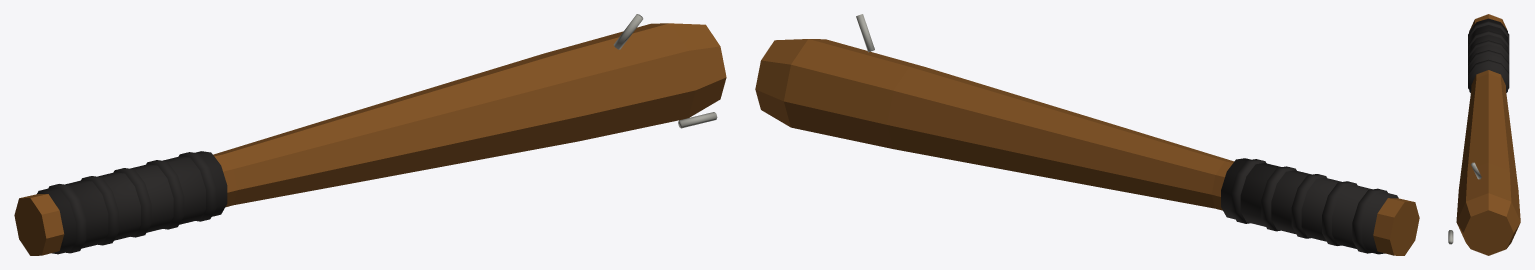
The model's file is item_club.glb.
The picture shows the model from 3 angles, left to right: view 1: azimuth 30°, elevation 25°; view 2: azimuth 150°, elevation 25°; view 3: azimuth 270°, elevation 25°; orthographic projection. The views are drawn at different scales.
Visible parts, largest first — view 1: club, grip, grip_turn_3, grip_turn_2, grip_turn_0, grip_turn_1, grip_turn_4; view 2: club, grip, grip_turn_3, grip_turn_0, grip_turn_2, grip_turn_1, grip_turn_4; view 3: club, grip, grip_turn_4, grip_turn_1, grip_turn_0, grip_turn_2, grip_turn_3, nail_0, nail_1.
Boxes of the visible parts, bbox=[...] form: club: bbox=[14, 23, 726, 255]; grip: bbox=[37, 151, 227, 254]; grip_turn_3: bbox=[146, 160, 184, 229]; grip_turn_2: bbox=[113, 168, 151, 237]; grip_turn_0: bbox=[48, 184, 86, 253]; grip_turn_1: bbox=[81, 176, 118, 245]; grip_turn_4: bbox=[178, 152, 216, 221]; club: bbox=[755, 39, 1419, 255]; grip: bbox=[1221, 158, 1398, 254]; grip_turn_3: bbox=[1261, 166, 1296, 231]; grip_turn_0: bbox=[1352, 188, 1387, 253]; grip_turn_2: bbox=[1291, 174, 1326, 238]; grip_turn_1: bbox=[1322, 181, 1357, 245]; grip_turn_4: bbox=[1231, 159, 1266, 223]; club: bbox=[1456, 14, 1520, 255]; grip: bbox=[1469, 18, 1507, 92]; grip_turn_4: bbox=[1468, 59, 1509, 89]; grip_turn_1: bbox=[1468, 30, 1509, 53]; grip_turn_0: bbox=[1468, 21, 1509, 43]; grip_turn_2: bbox=[1468, 40, 1509, 62]; grip_turn_3: bbox=[1468, 50, 1509, 72]; nail_0: bbox=[1471, 162, 1481, 179]; nail_1: bbox=[1448, 230, 1453, 244].
Bounding box in the file's own units: 0.56 × 0.0982 × 0.0853.
